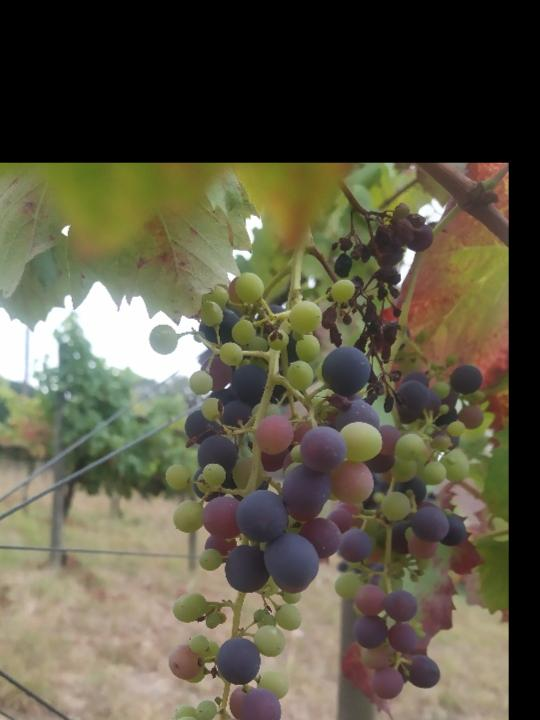grape: (149, 249, 382, 720), (335, 365, 494, 703), (323, 205, 435, 420)
